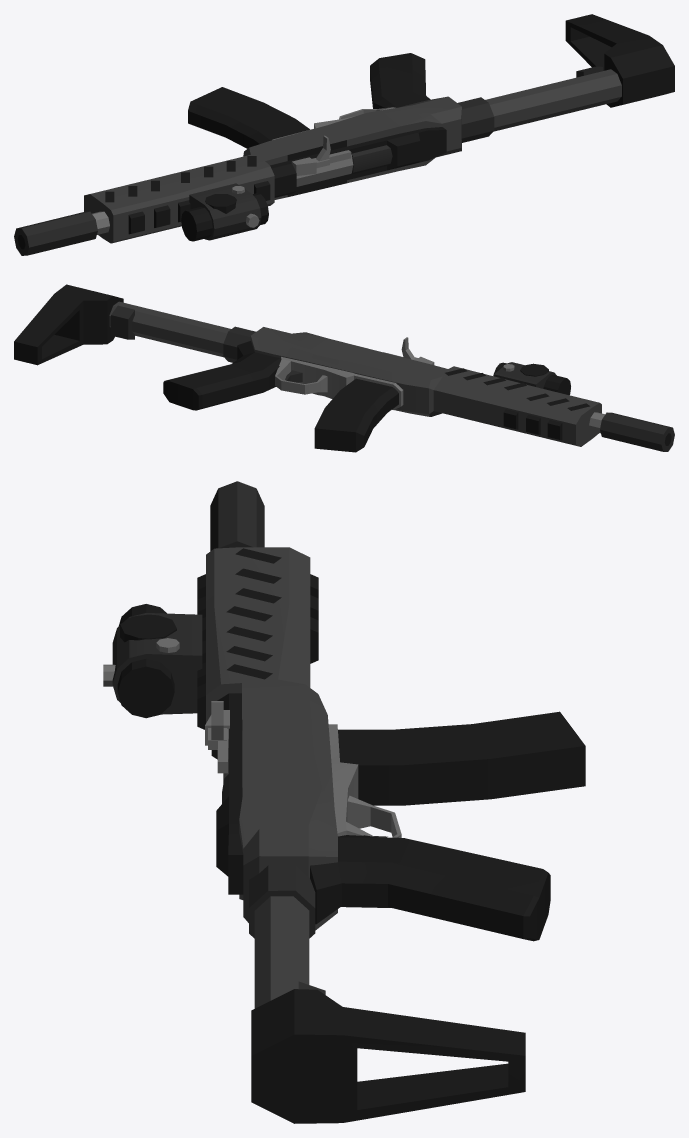
Rendered from M30Carbine_3D.glb.
The picture shows the model from 3 angles, top to bottom: view 1: azimuth 30°, elevation 25°; view 2: azimuth 150°, elevation 25°; view 3: azimuth 270°, elevation 25°; orthographic projection. The views are drawn at different scales.
Parts seen in each view (by area): view 1: M30CarbineBody.001; view 2: M30CarbineBody.001; view 3: M30CarbineBody.001.
Part boxes in pixels (left/top/right/bottom): M30CarbineBody.001: left=14, top=14, right=674, bottom=255; M30CarbineBody.001: left=14, top=284, right=674, bottom=452; M30CarbineBody.001: left=103, top=481, right=585, bottom=1123.
Size of the model in its own units: 0.8264 by 0.0735 by 0.2936.
1 material, 1 textured.
